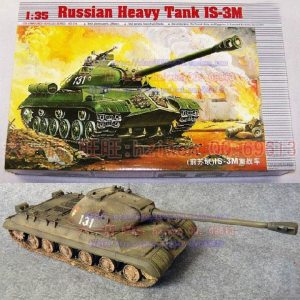Battle Tank: (1, 186, 298, 289), (20, 42, 198, 150)
